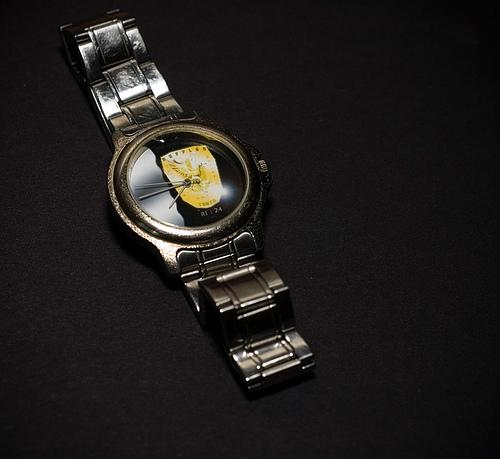watch: (87, 92, 285, 286)
